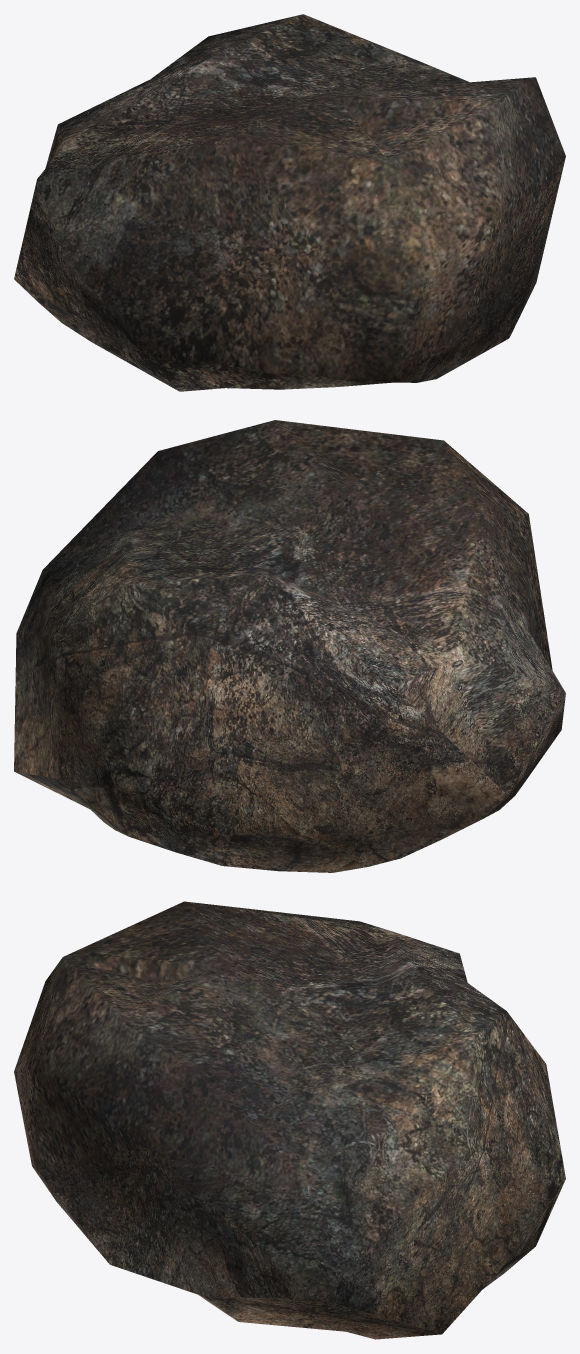
File: stone1.fbx
3 views of the same model, one above another, from view 1: azimuth 30°, elevation 25°; view 2: azimuth 150°, elevation 25°; view 3: azimuth 270°, elevation 25° (orthographic). The views are drawn at different scales.
Visible parts, largest first — view 1: stone_1.object; view 2: stone_1.object; view 3: stone_1.object.
Boxes of the visible parts, box(x1,y1,x2,y2) form: stone_1.object: box(14, 14, 565, 391); stone_1.object: box(14, 420, 565, 872); stone_1.object: box(14, 901, 565, 1339).
Bounding box in the file's own units: 280 × 153 × 257.
